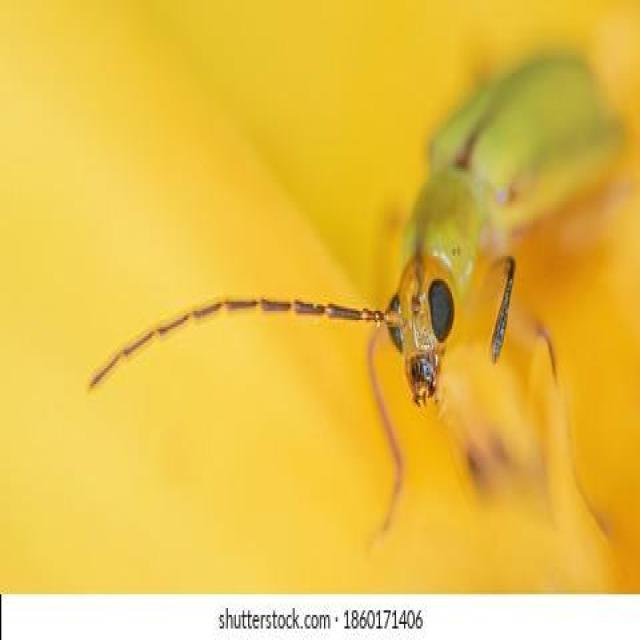gusano_gris: (87, 52, 638, 540)
